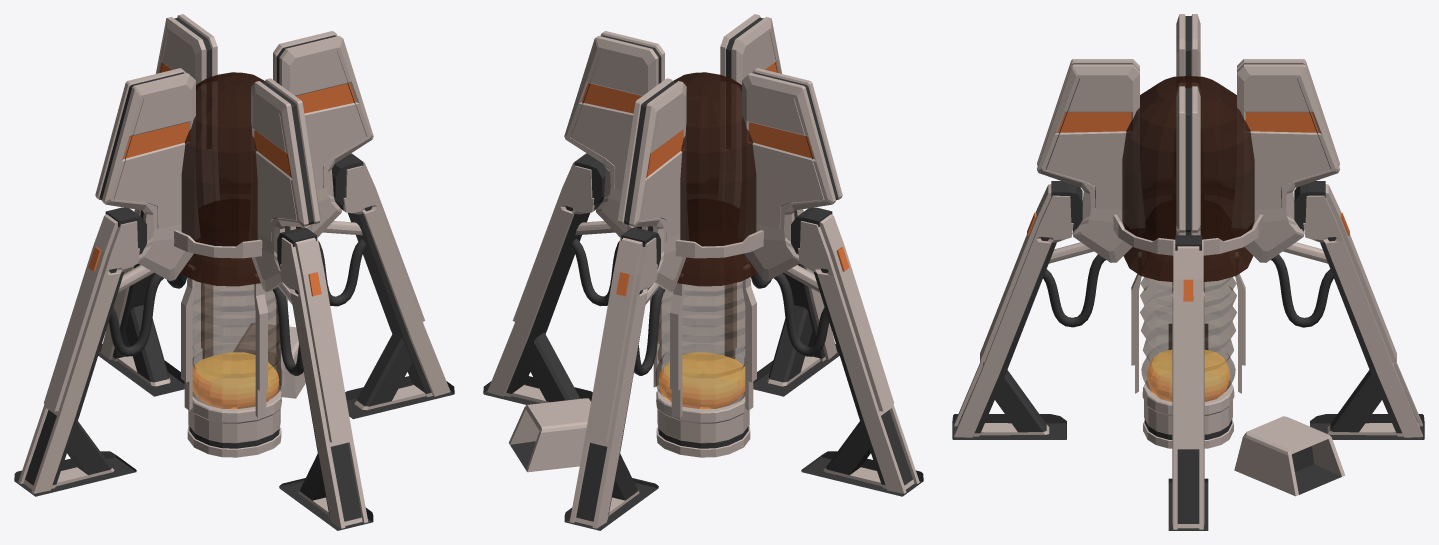
File: OriginiumMine.fbx
3 renders of one model, left to right at view 1: azimuth 30°, elevation 25°; view 2: azimuth 150°, elevation 25°; view 3: azimuth 270°, elevation 25°, orthographic. The views are drawn at different scales.
Parts seen in each view (by area): view 1: Cube.021, Cube.022, Cube.014, Cube.007, Cube.010, Cube.013, Cube.008, Cube, Cube.017, Cube.006, Cube.001, Cube.026 (+16 smaller); view 2: Cube.021, Cube.022, Cube.018, Cube.007, Cube.010, Cube.017, Cube.008, Cube, Cube.013, Cube.025, Cube.006, Cube.001 (+16 smaller); view 3: Cube.007, Cube.013, Cube.017, Cube.018, Cube.014, Cube.010, Cube, Cube.025, Cube.001, Cube.008, Cube.006, Cube.026 (+11 smaller).
Part boxes in pixels (x1=…): Cube.021: x1=95, y1=68, x2=199, y2=280; Cube.022: x1=18, y1=214, x2=139, y2=493; Cube.014: x1=280, y1=237, x2=368, y2=528; Cube.007: x1=181, y1=72, x2=301, y2=246; Cube.010: x1=335, y1=157, x2=450, y2=410; Cube.013: x1=249, y1=78, x2=320, y2=291; Cube.008: x1=273, y1=31, x2=373, y2=237; Cube: x1=187, y1=280, x2=282, y2=408; Cube.017: x1=156, y1=14, x2=219, y2=207; Cube.006: x1=187, y1=389, x2=281, y2=457; Cube.001: x1=180, y1=199, x2=260, y2=286; Cube.026: x1=192, y1=352, x2=279, y2=409; Cube.021: x1=738, y1=68, x2=842, y2=280; Cube.022: x1=798, y1=214, x2=919, y2=493; Cube.018: x1=569, y1=237, x2=657, y2=528; Cube.007: x1=636, y1=72, x2=756, y2=246; Cube.010: x1=487, y1=157, x2=602, y2=402; Cube.017: x1=617, y1=78, x2=688, y2=291; Cube.008: x1=564, y1=31, x2=664, y2=237; Cube: x1=655, y1=280, x2=750, y2=408; Cube.013: x1=718, y1=14, x2=781, y2=207; Cube.025: x1=509, y1=398, x2=590, y2=472; Cube.006: x1=656, y1=389, x2=750, y2=457; Cube.001: x1=677, y1=199, x2=757, y2=286; Cube.007: x1=1122, y1=76, x2=1254, y2=240; Cube.013: x1=1037, y1=59, x2=1144, y2=262; Cube.017: x1=1232, y1=59, x2=1339, y2=262; Cube.018: x1=1303, y1=184, x2=1422, y2=437; Cube.014: x1=954, y1=184, x2=1073, y2=437; Cube.010: x1=1172, y1=240, x2=1204, y2=529; Cube: x1=1140, y1=277, x2=1236, y2=401; Cube.025: x1=1234, y1=416, x2=1345, y2=496; Cube.001: x1=1123, y1=200, x2=1253, y2=281; Cube.008: x1=1176, y1=86, x2=1200, y2=235; Cube.006: x1=1142, y1=380, x2=1234, y2=448; Cube.026: x1=1146, y1=349, x2=1230, y2=401.
Bounding box in the file's own units: 772 × 665 × 772.
